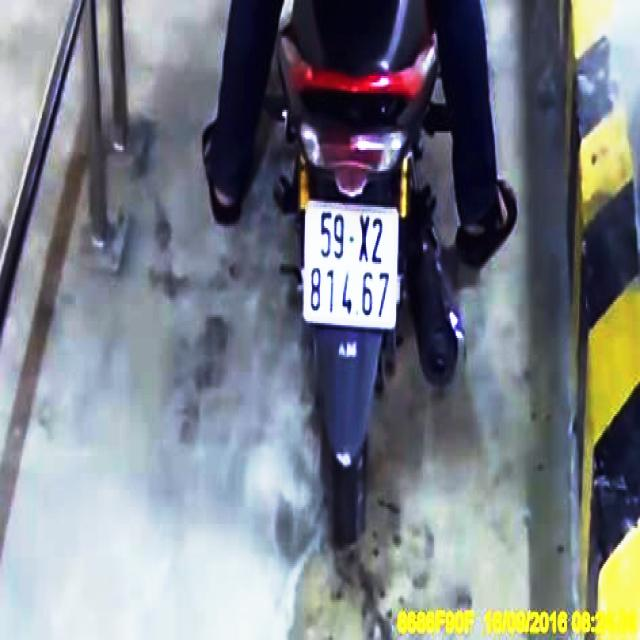license_plate: (306, 203, 400, 330)
